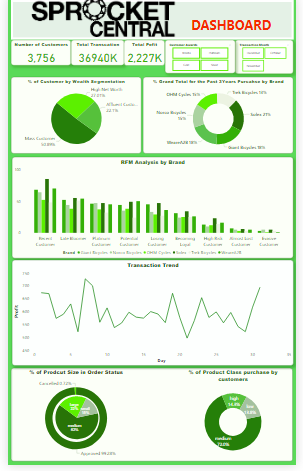

The dashboard page shown, as its layout file describes it:
{"tool":"powerbi","page":{"name":"Dashboard","canvas":[1200,1950],"ordinal":0},"visuals":[{"type":"card","title":"Number of Customers ","fields":{"Values":["CountNonNull(Transactions.customer_id)"]},"box":[11.1,179.6,250,105.6],"z":0},{"type":"group","id":"g1","title":"Group 2","box":[13.2,1545.7,1174.1,388.9],"z":0,"group":"g2"},{"type":"card","title":"Total Transcation ","fields":{"Values":["Sum(Transactions.transaction_id)"]},"box":[261.1,179.6,222.2,105.6],"z":1000},{"type":"lineChart","title":"Transaction Trend","fields":{"Category":["Transactions.transaction_date.Variation.Date Hierarchy.Day"],"Y":["Avg(Transactions.Profit)"]},"box":[15.7,1094.4,1172.5,440],"z":1000,"group":"g2"},{"type":"slicer","title":"Transaction Month","fields":{"Values":["Transactions.transaction_month"]},"box":[946.3,177.8,242.6,140.7],"z":2000},{"type":"slicer","title":"Awards","fields":{"Values":["Transactions.Customer_Title"]},"box":[653.7,179.6,292.6,138.9],"z":3000},{"type":"shape","box":[13.8,10.8,1178.5,164.6],"z":4000},{"type":"textbox","box":[686.3,58.8,500,115.7],"z":5000},{"type":"image","box":[92.3,0,624.6,204.6],"z":6000},{"type":"pieChart","title":"% of Customer by Wealth Segmentation ","fields":{"Category":["Transactions.wealth_segment"],"Y":["CountNonNull(Transactions.customer_id)"]},"box":[11.1,333.3,542.6,318.5],"z":7000},{"type":"donutChart","title":"% Grand Total for the Past 3Years Purcahse by Brand","fields":{"Category":["Transactions.brand"],"Y":["Divide(Sum(Transactions.past_3_years_bike_related_purchases), ScopedEval(Sum(Transactions.past_3_years_bike_related_purc"]},"box":[563,333.3,625.9,318.5],"z":8000},{"type":"clusteredColumnChart","title":"RFM Analysis by Brand","fields":{"Category":["Transactions.Customer_Title_1"],"Series":["Transactions.brand"],"Y":["CountNonNull(Transactions.customer_id)"]},"box":[16.7,664.8,1172.2,422.2],"z":9000},{"type":"card","title":"Total Pofit","fields":{"Values":["Sum(Transactions.Profit)"]},"box":[483.3,177.8,170.4,107.4],"z":10000},{"type":"shape","box":[13.2,1545.7,1174.1,388.9],"z":11000,"group":"g1"},{"type":"donutChart","title":"% of Prodcut Size in Order Status","fields":{"Y":["CountNonNull(Transactions.transaction_id)"],"Category":["Transactions.order_status"]},"box":[18.3,1545.7,534.5,388.9],"z":12000,"group":"g1"},{"type":"pieChart","fields":{"Y":["CountNonNull(Transactions.transaction_id)"],"Category":["Transactions.product_size"]},"box":[111.9,1624.6,348.6,256.4],"z":13000,"group":"g1"},{"type":"donutChart","title":"% of Product Class purchase by customers","fields":{"Category":["Transactions.product_class"],"Y":["CountNonNull(Transactions.customer_id)"]},"box":[686.5,1545.7,499.9,388.7],"z":14000,"group":"g1"},{"type":"group","id":"g2","title":"Group 1","box":[13.2,1094.4,1175,840.2],"z":14001}]}

Visuals, with their boxes on the page's 1200x1950 design canvas (x1, y1, x2, y2). These are canvas units, not pixel positions in the 303x471 screenshot, which may show the page scaled, cropped or inside an application window:
"Number of Customers " card: detection(11, 180, 261, 285)
"Group 2" group: detection(13, 1546, 1187, 1935)
"Total Transcation " card: detection(261, 180, 483, 285)
"Transaction Trend" lineChart: detection(16, 1094, 1188, 1534)
"Transaction Month" slicer: detection(946, 178, 1189, 318)
"Awards" slicer: detection(654, 180, 946, 318)
shape: detection(14, 11, 1192, 175)
textbox: detection(686, 59, 1186, 174)
image: detection(92, 0, 717, 205)
"% of Customer by Wealth Segmentation " pieChart: detection(11, 333, 554, 652)
"% Grand Total for the Past 3Years Purcahse by Brand" donutChart: detection(563, 333, 1189, 652)
"RFM Analysis by Brand" clusteredColumnChart: detection(17, 665, 1189, 1087)
"Total Pofit" card: detection(483, 178, 654, 285)
shape: detection(13, 1546, 1187, 1935)
"% of Prodcut Size in Order Status" donutChart: detection(18, 1546, 553, 1935)
pieChart - CountNonNull(Transactions.transaction_id) x Transactions.product_size: detection(112, 1625, 460, 1881)
"% of Product Class purchase by customers" donutChart: detection(686, 1546, 1186, 1934)
"Group 1" group: detection(13, 1094, 1188, 1935)
